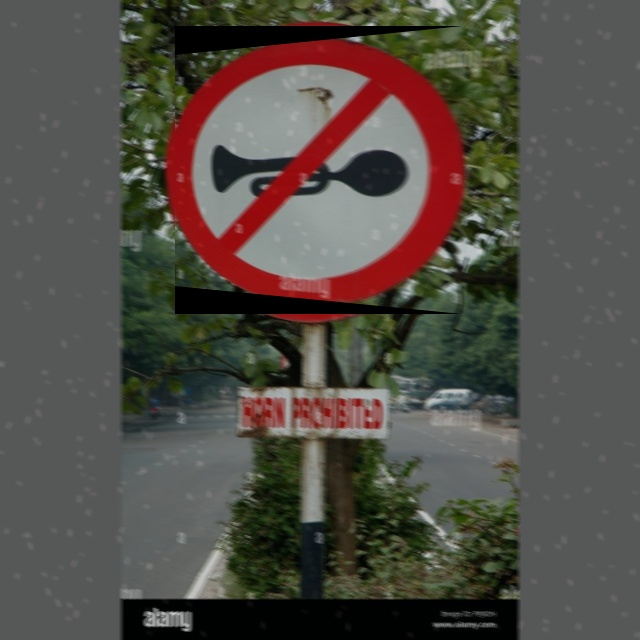Horn_Prohibited: (175, 26, 463, 314)
